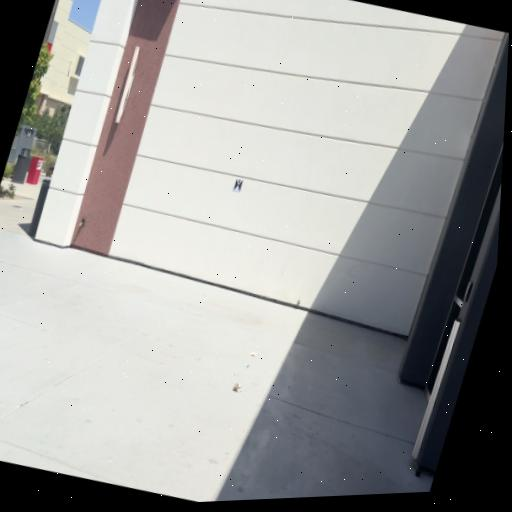target0: (232, 178, 243, 193)
